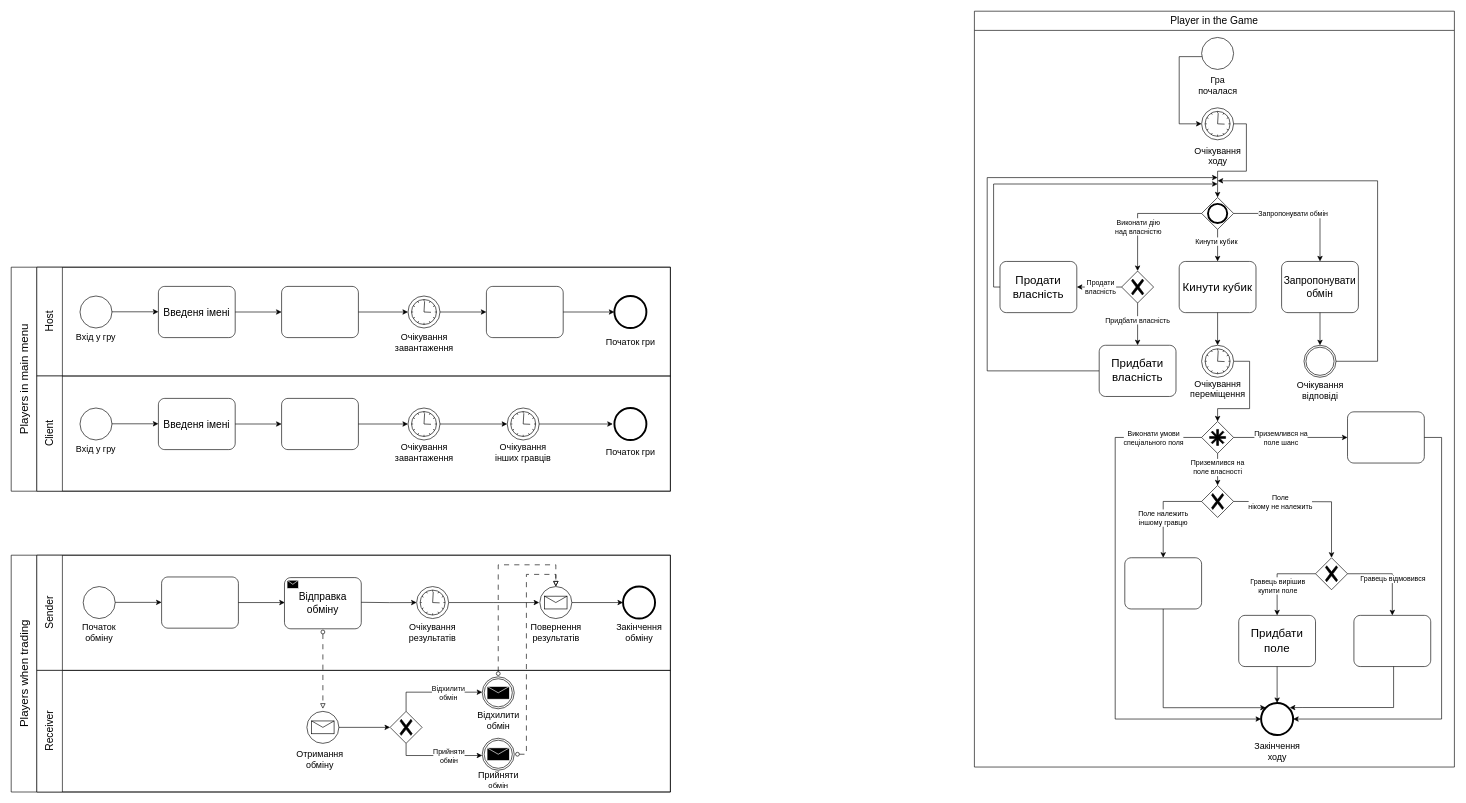
This 1466x803 diagram has some shape labels left out. The centre of each missing label's shape, as x and y in pixels:
Ввести код ігрової кімнати: the point at 319,424
Виконати умови поля шанс: the point at 1385,437
Відмовитися: the point at 1392,641
Заплатити орендну плату: the point at 1163,583
Заповення даних для обміну: the point at 199,602
Створити ігрову кімнату: the point at 319,312
Ініціалізація початку гри: the point at 524,312
